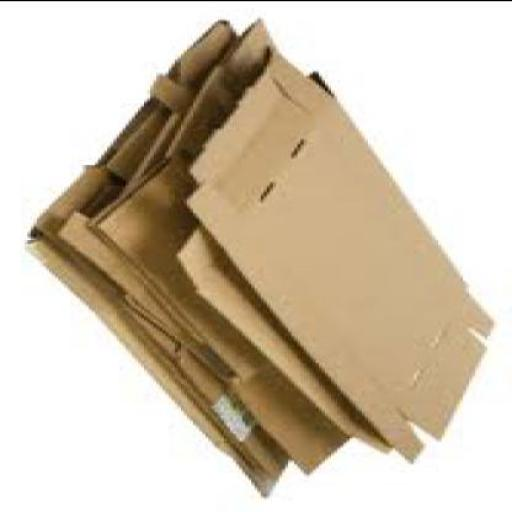cardboard: (65, 18, 429, 476), (184, 54, 499, 464), (25, 18, 291, 498)
